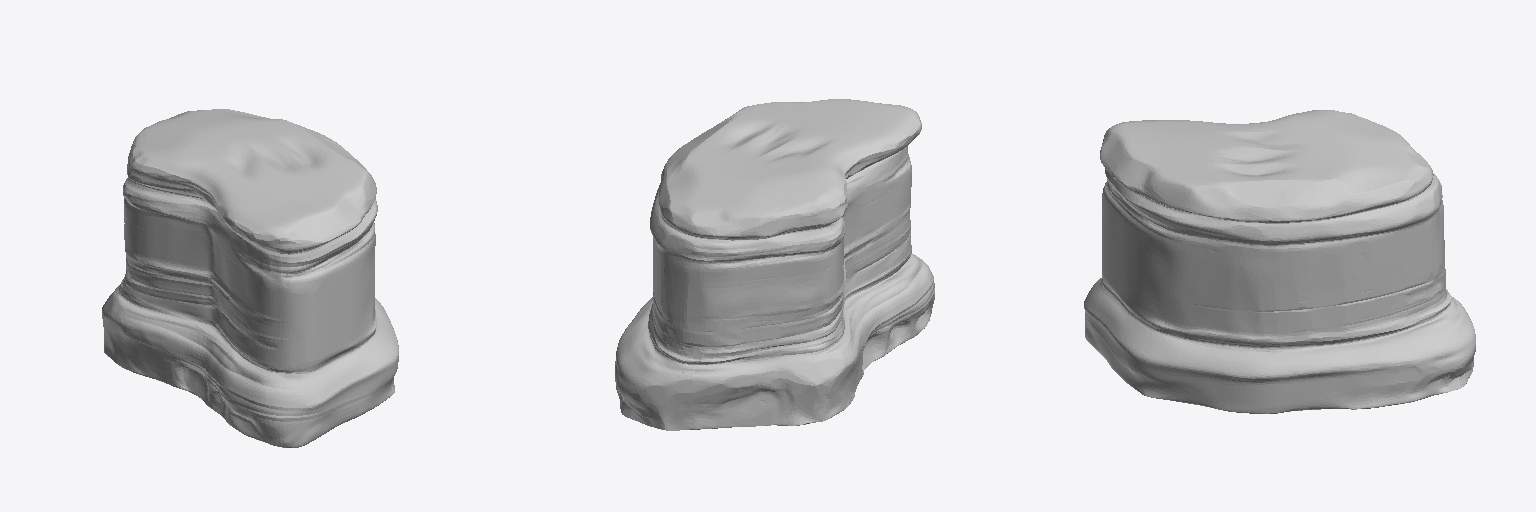
The model's file is Cliff_big_11.obj.
3 views of the same model, side by side, from view 1: azimuth 30°, elevation 25°; view 2: azimuth 150°, elevation 25°; view 3: azimuth 270°, elevation 25° (orthographic).
Size of the model in its own units: 70.58 by 65.22 by 107.